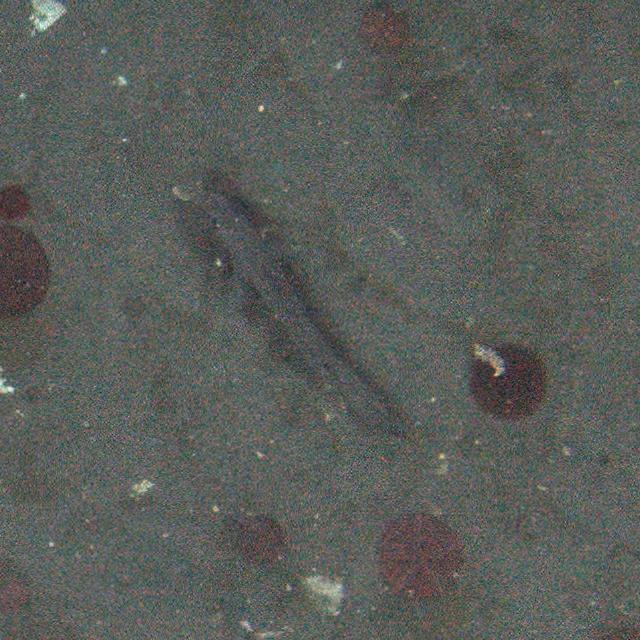roundfish: (195, 179, 411, 443)
